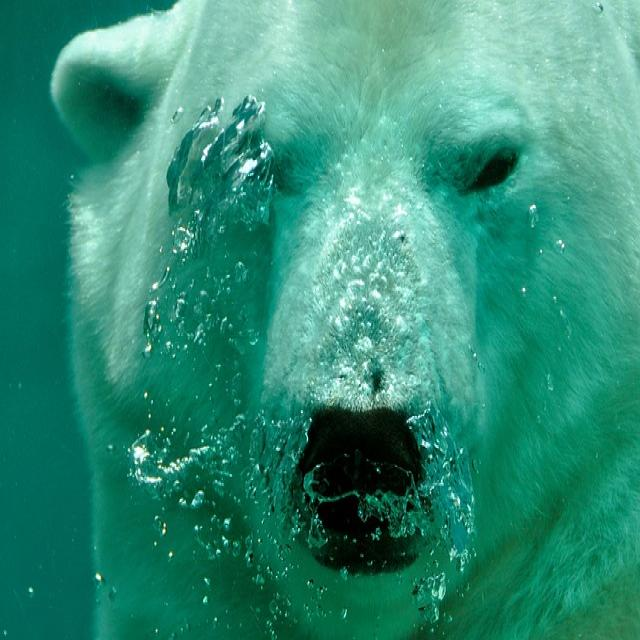Carnivorous: (47, 0, 640, 640)
